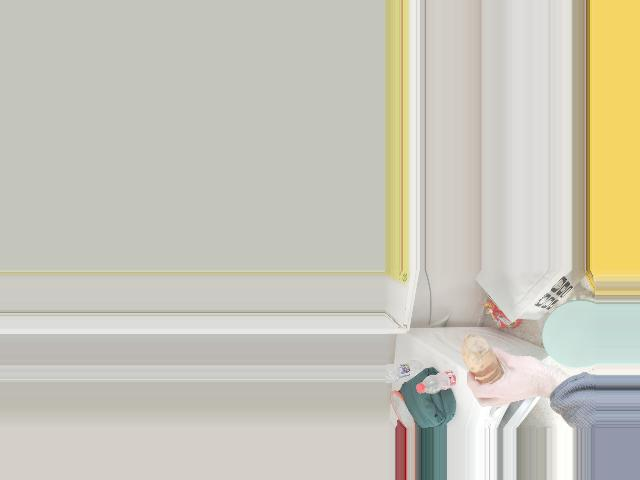sweet_potato: (460, 343, 503, 386)
